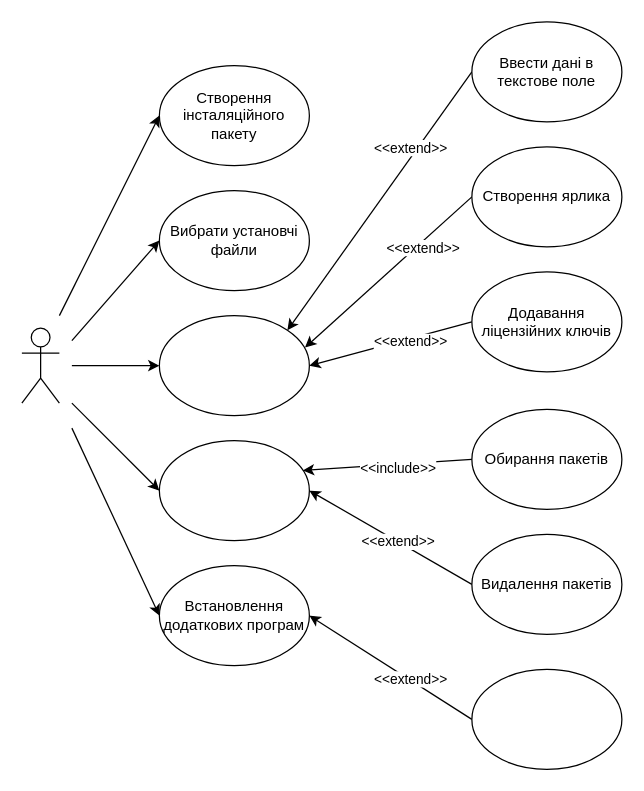
The diagram is 644 pixels wide and 791 high, and some of its shapes have lost their labels. The box of each missing label's shape, as (x1, y1, x2, y2) in pixels:
User: (21, 327, 59, 403)
Налаштування інтерактивних пакетів: (158, 439, 309, 541)
Обирання додаткових програм: (471, 668, 622, 769)
Установка вікон із інтерактивними можливостями: (158, 314, 309, 416)
